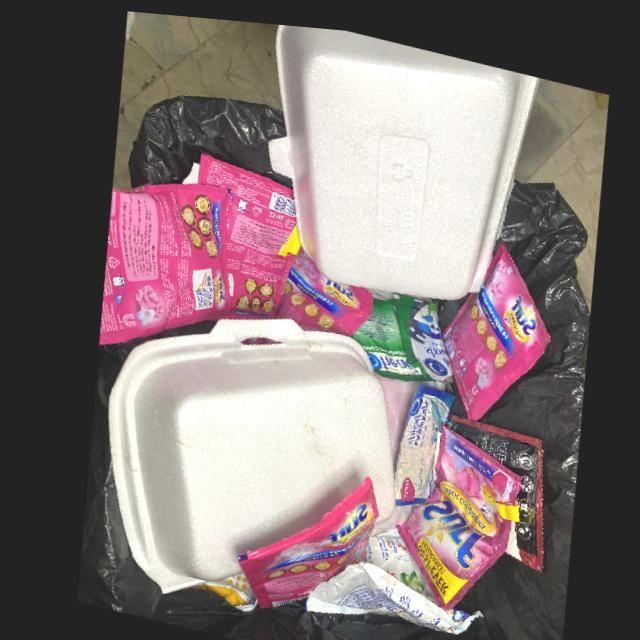styrofoam: (102, 314, 389, 605), (266, 20, 538, 293)
wrapper: (390, 418, 516, 603), (94, 181, 228, 345), (437, 235, 548, 414), (229, 473, 371, 607), (442, 410, 541, 564), (297, 560, 474, 630), (347, 286, 448, 376), (387, 377, 449, 501)
